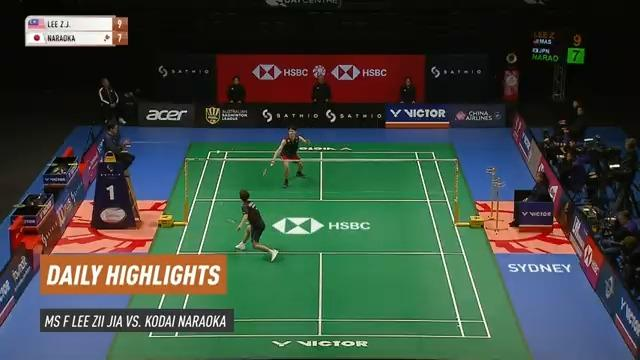Shuttlecock: (215, 148, 222, 154)
